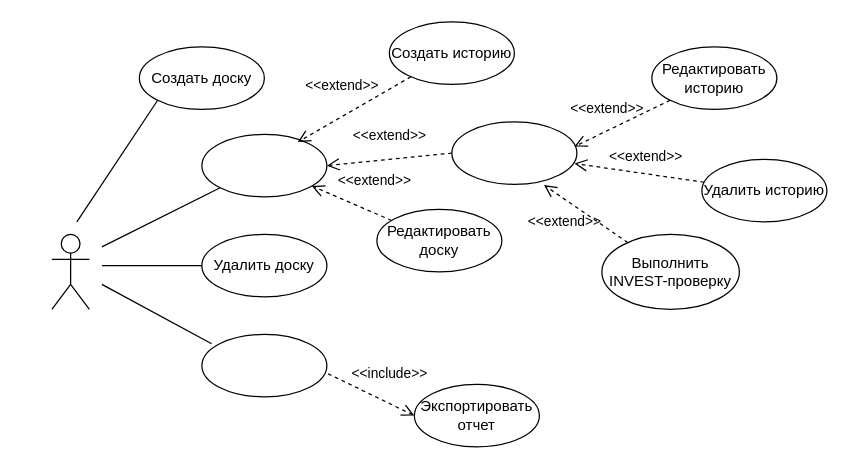
Image size: 849x469. Some labels were removed from this diagram. The box of each missing label's shape, as (x1, y1, x2, y2) in pixels:
Cоздать отчет: (201, 333, 327, 397)
Пользователь: (51, 233, 89, 309)
Просмотреть доску: (201, 133, 327, 197)
Просмотреть историю: (451, 121, 577, 184)
